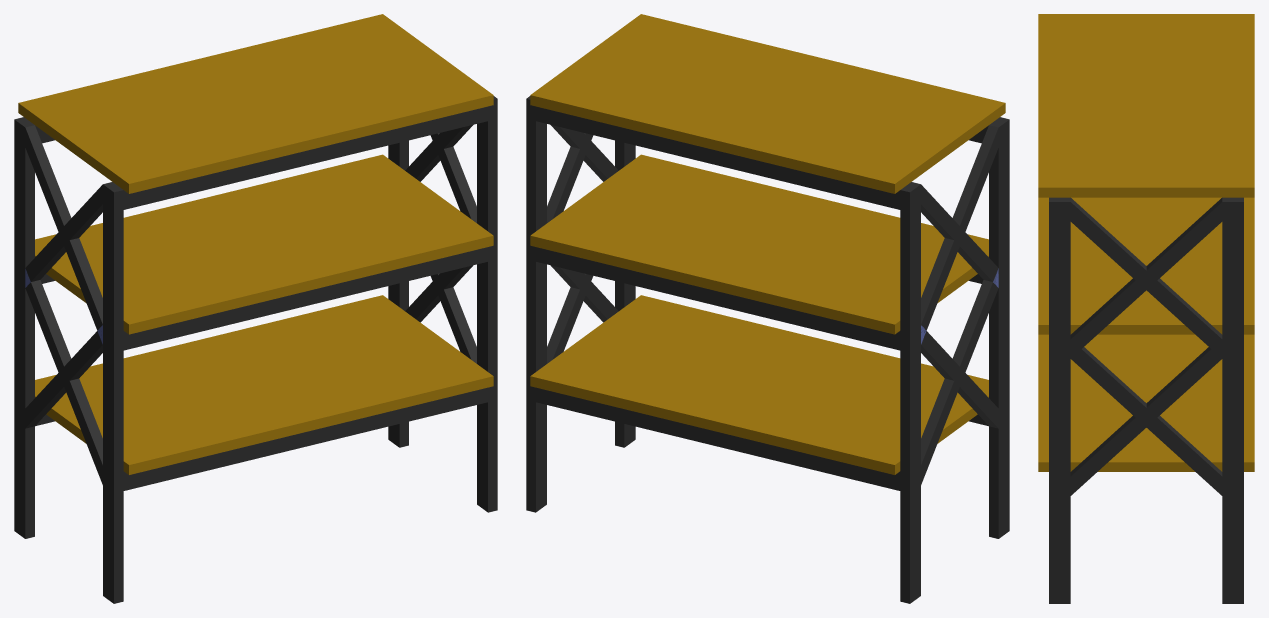
Rendered from Shelves.fbx.
3 views of the same model, side by side, from view 1: azimuth 30°, elevation 25°; view 2: azimuth 150°, elevation 25°; view 3: azimuth 270°, elevation 25° (orthographic). The views are drawn at different scales.
Visible parts, largest first — view 1: Plane.002; view 2: Plane.002; view 3: Plane.002.
Part boxes in pixels (x1,y1,x2,y2): Plane.002: (14, 14, 497, 603); Plane.002: (526, 14, 1009, 603); Plane.002: (1038, 14, 1254, 603).
Size of the model in its own units: 200 by 210 by 100.
